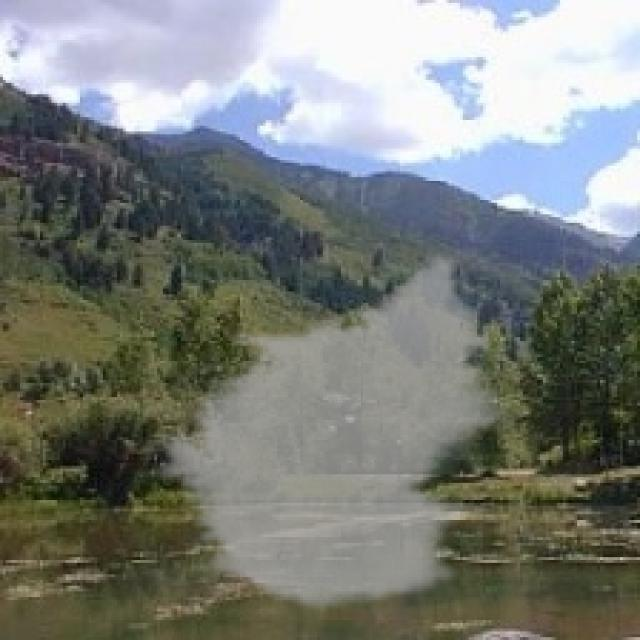Smoke: (148, 252, 518, 614)
